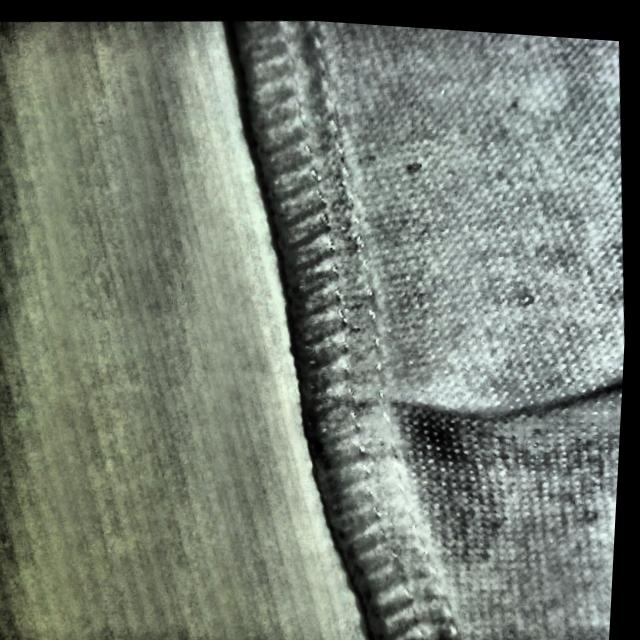seam: (288, 320, 621, 526)
